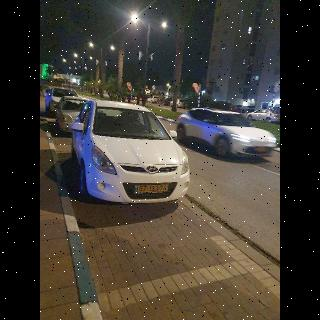LicensePlate: (138, 185, 169, 192)
